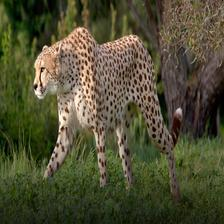Cheetah: (31, 24, 186, 205)
